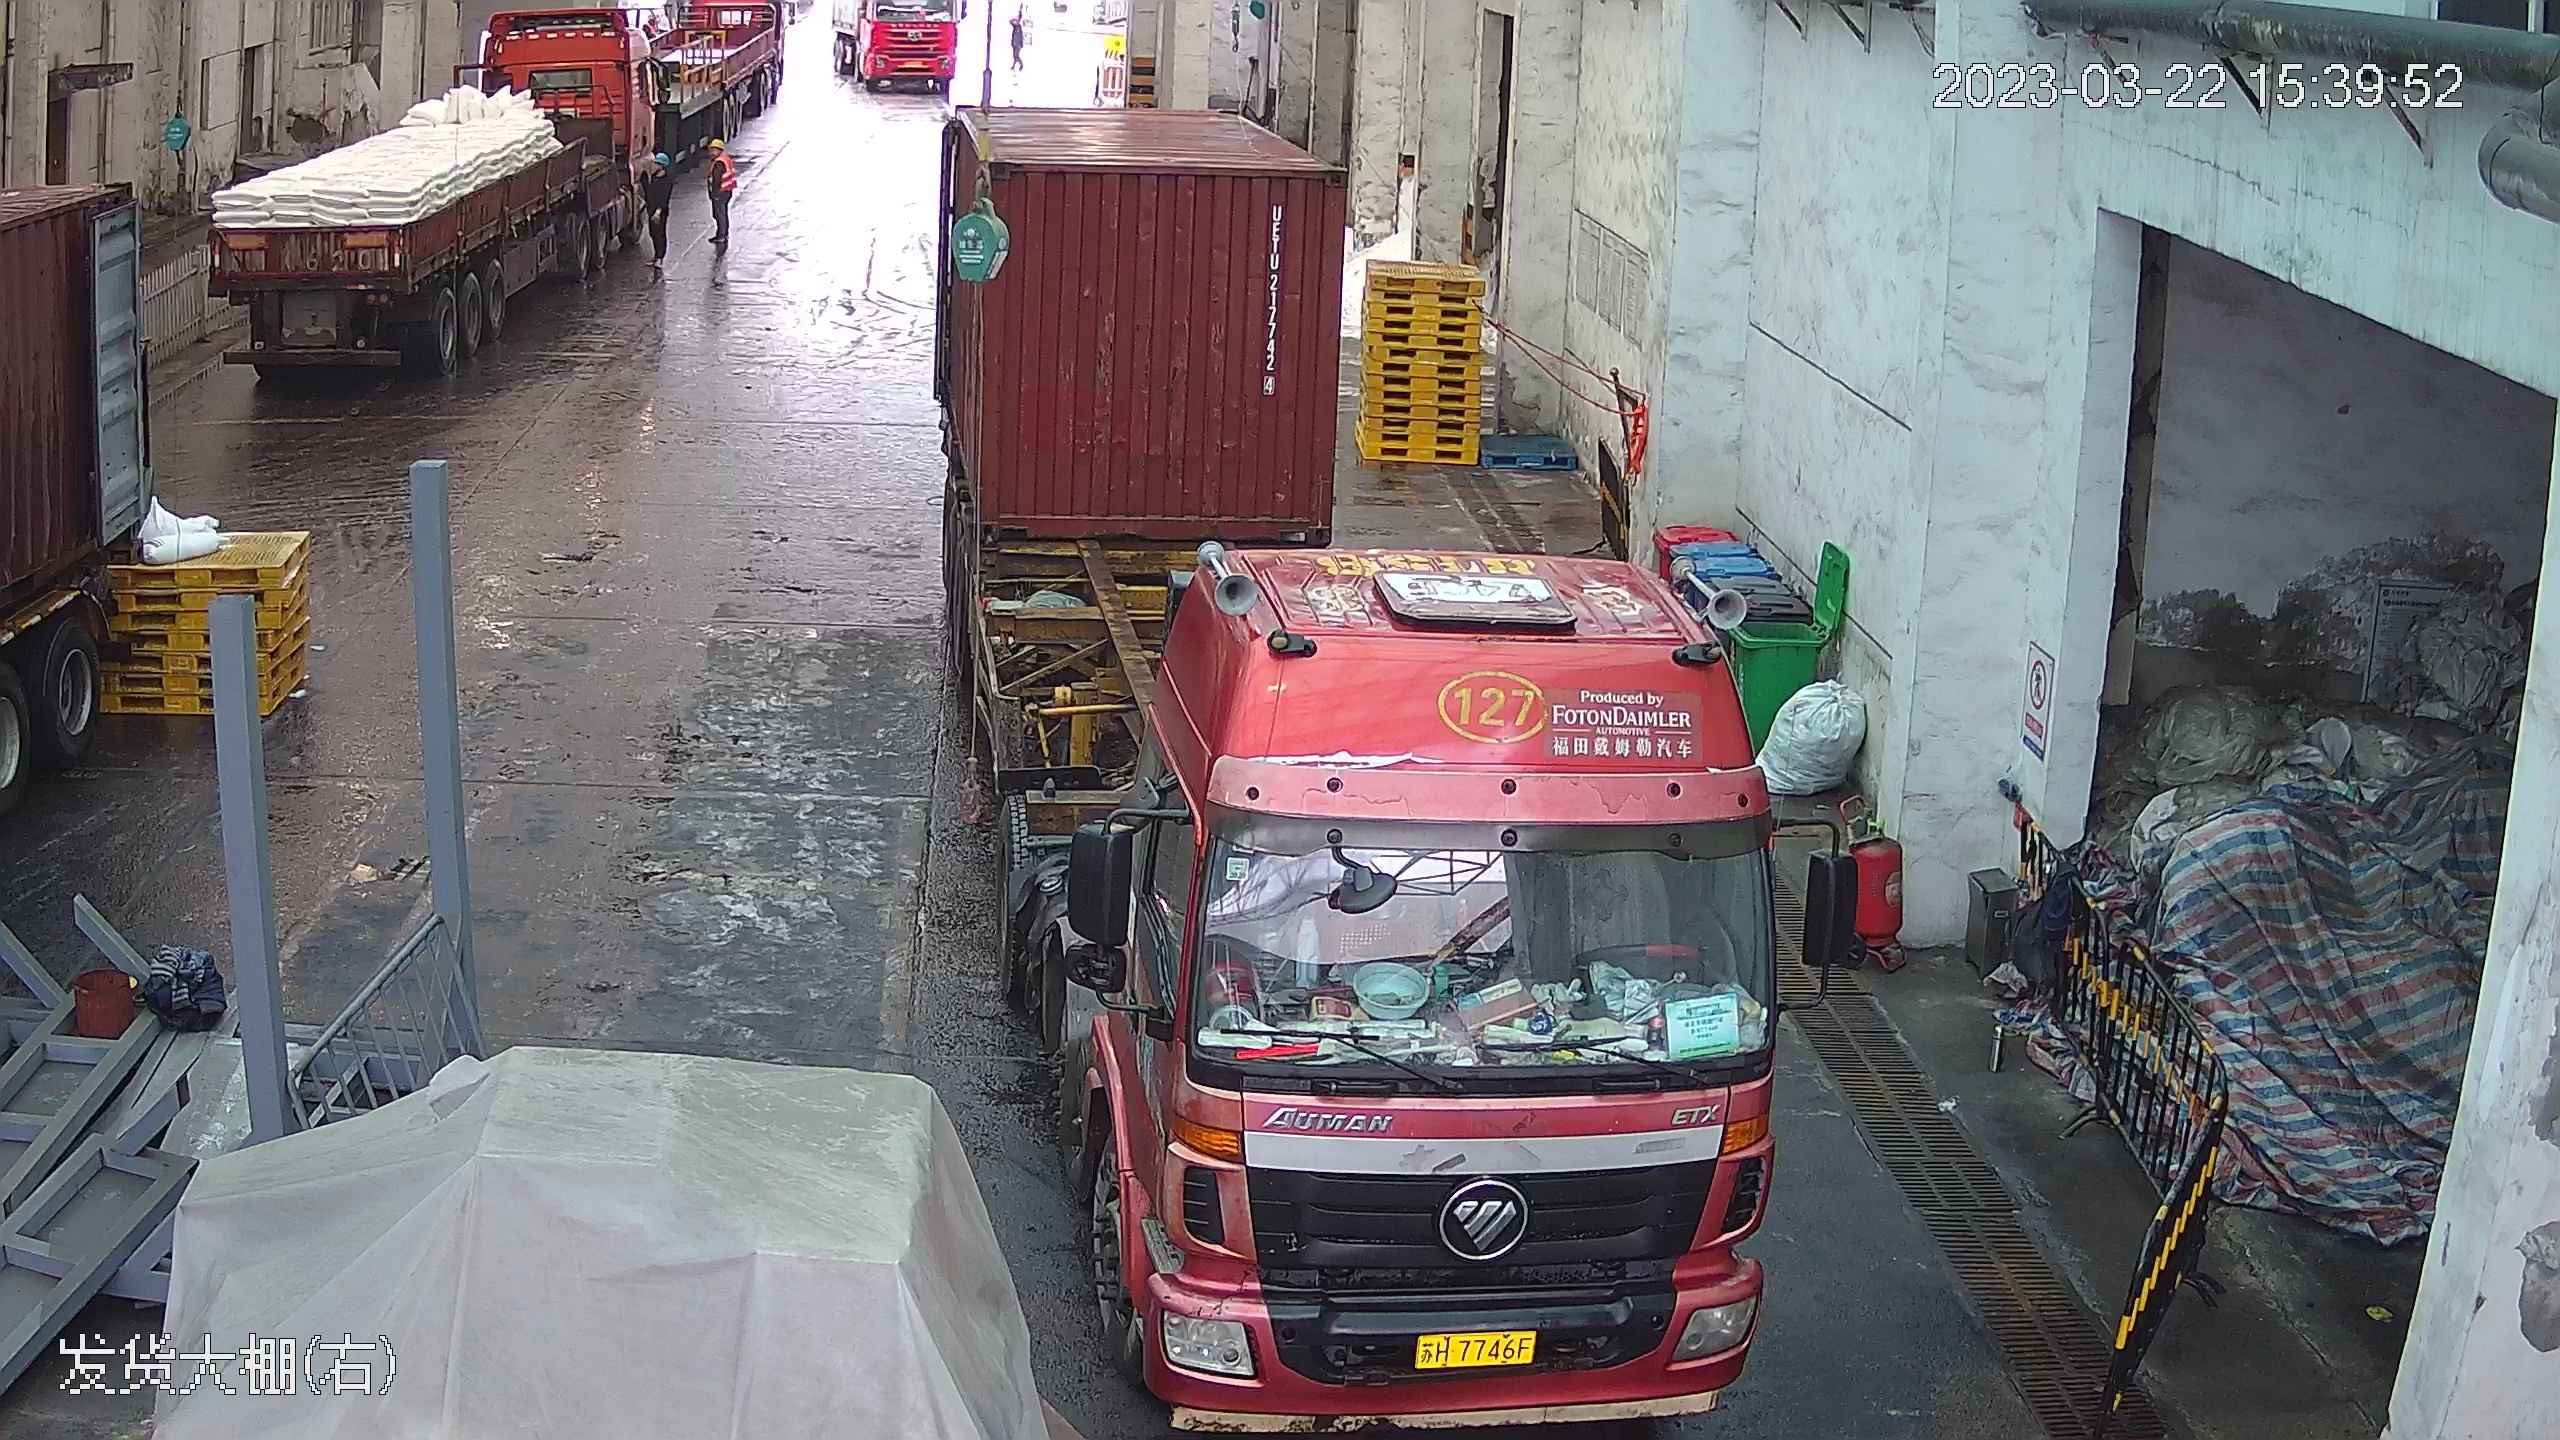head: (701, 134, 736, 179), (639, 153, 675, 194)
helmet: (651, 153, 670, 168), (708, 138, 725, 150)
people: (656, 144, 726, 269), (697, 128, 736, 276), (639, 142, 678, 259), (1004, 6, 1035, 80)
truck: (906, 32, 1811, 1440), (190, 9, 702, 373)
